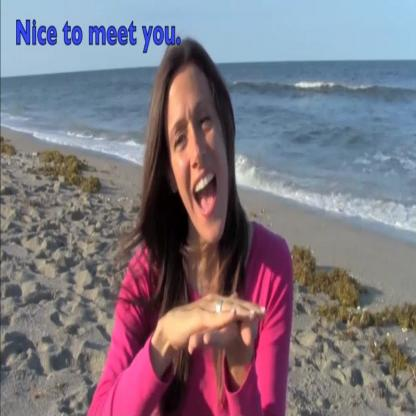NiceToMeetYou: (153, 269, 265, 361)
